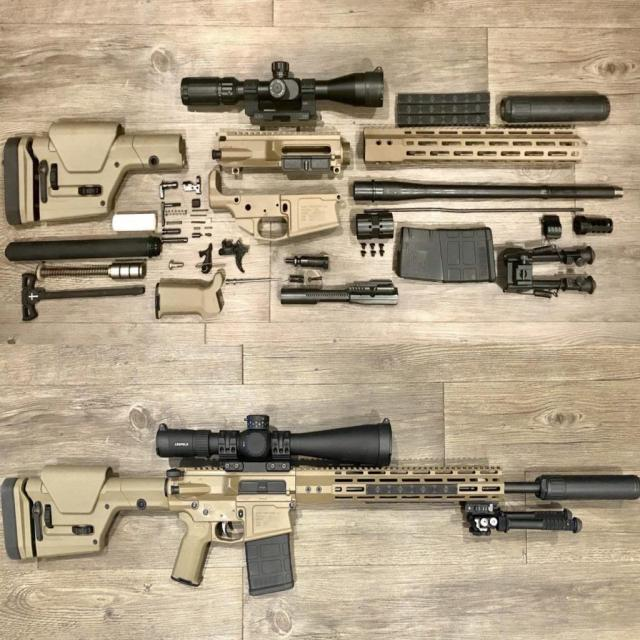Rifle: (0, 415, 639, 596)
